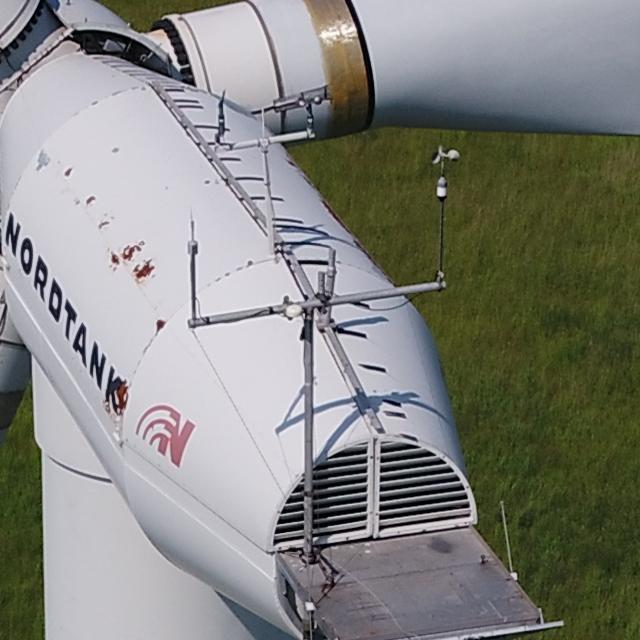damage: (113, 377, 130, 417), (130, 260, 158, 281), (118, 243, 146, 261), (34, 148, 52, 174), (110, 251, 122, 267), (96, 219, 111, 231), (155, 318, 167, 333), (84, 194, 98, 206), (64, 167, 74, 179), (110, 146, 120, 156)
